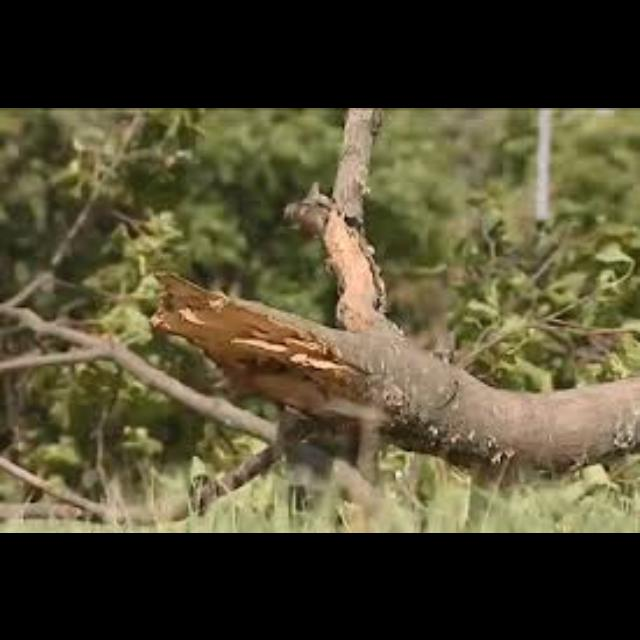Fallen Tree: (137, 259, 639, 483)
